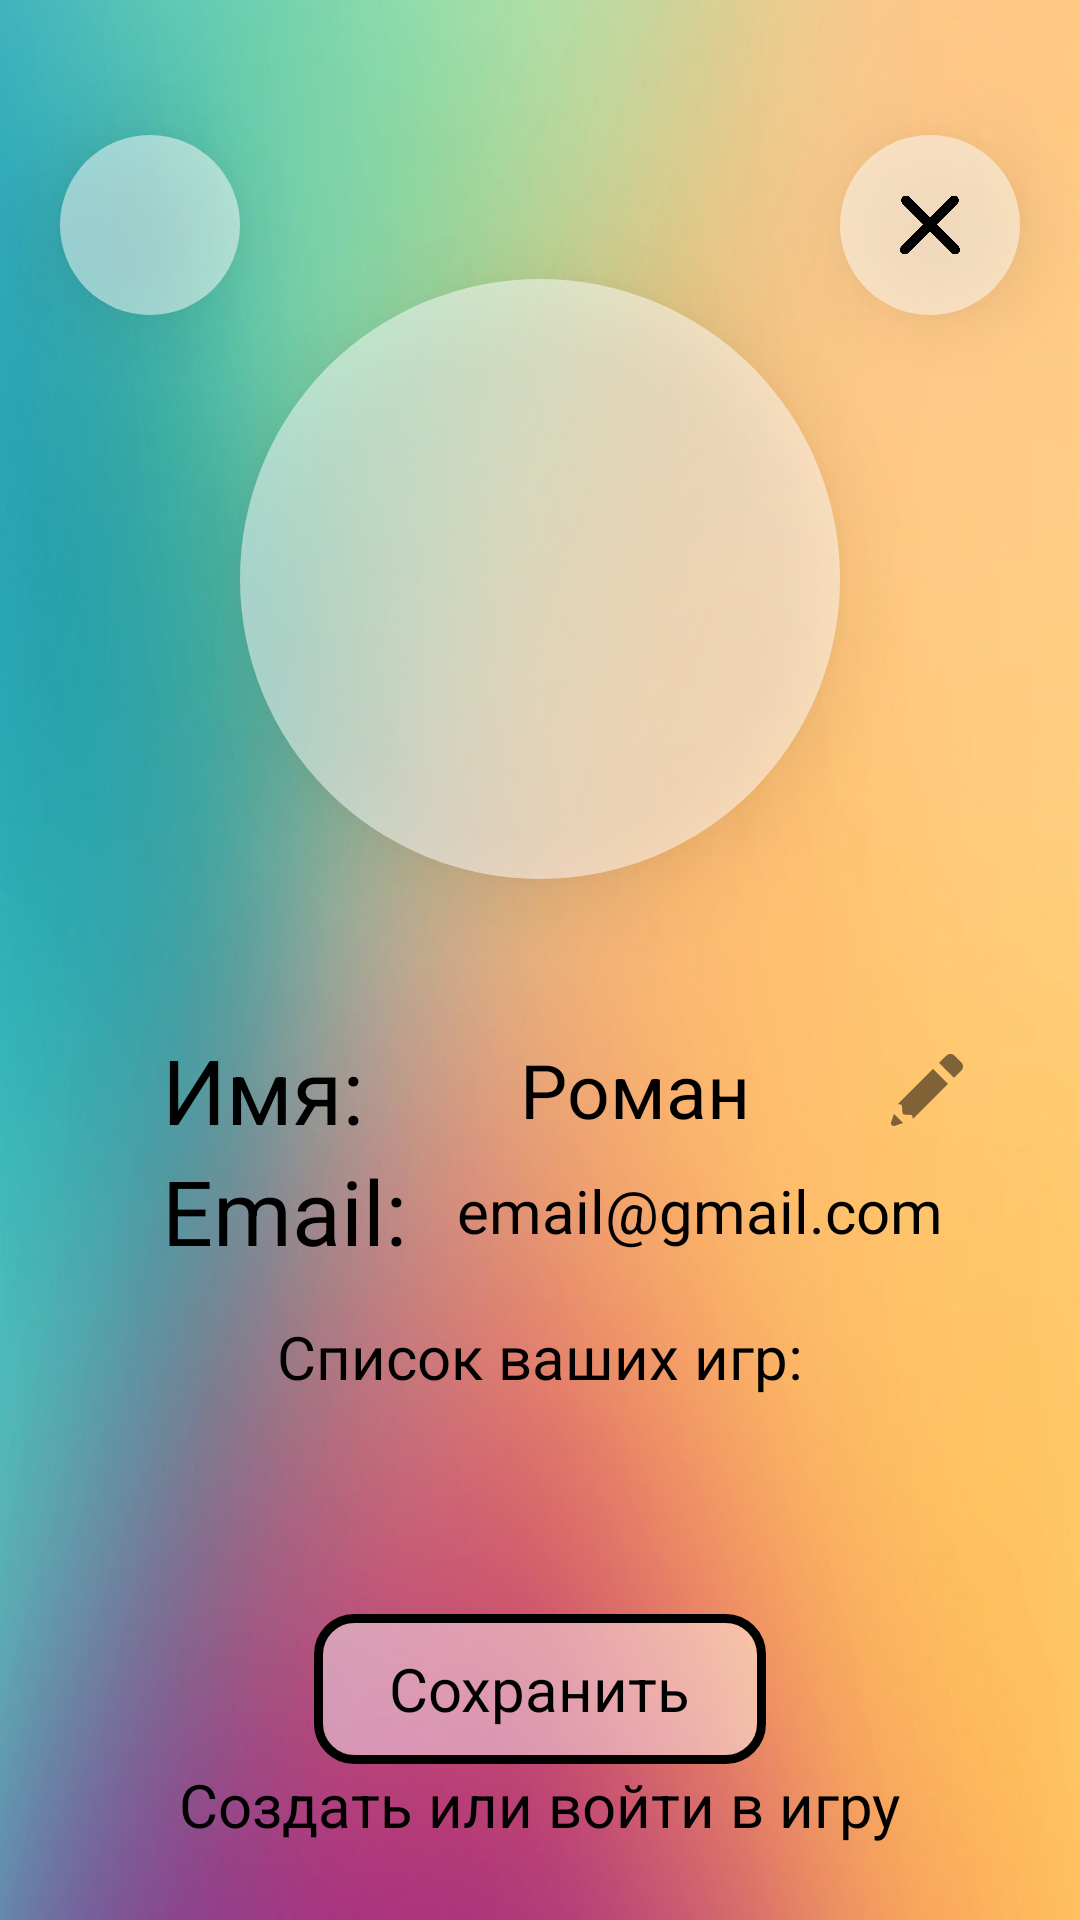

Point at icon controls on the screen. Image size 1080px×1920px, points as (x,y).
edit: (927,1090)
